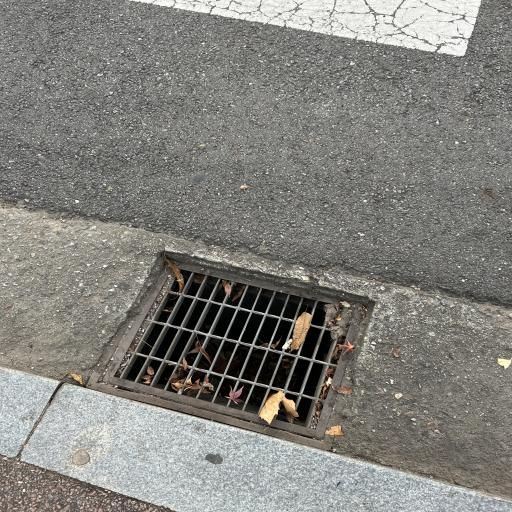drain: (108, 269, 366, 437)
